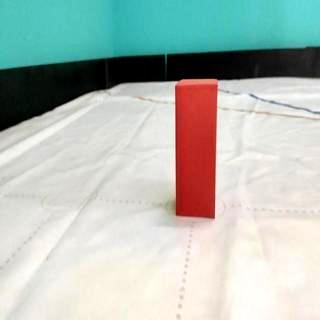redbox: (176, 80, 216, 218)
